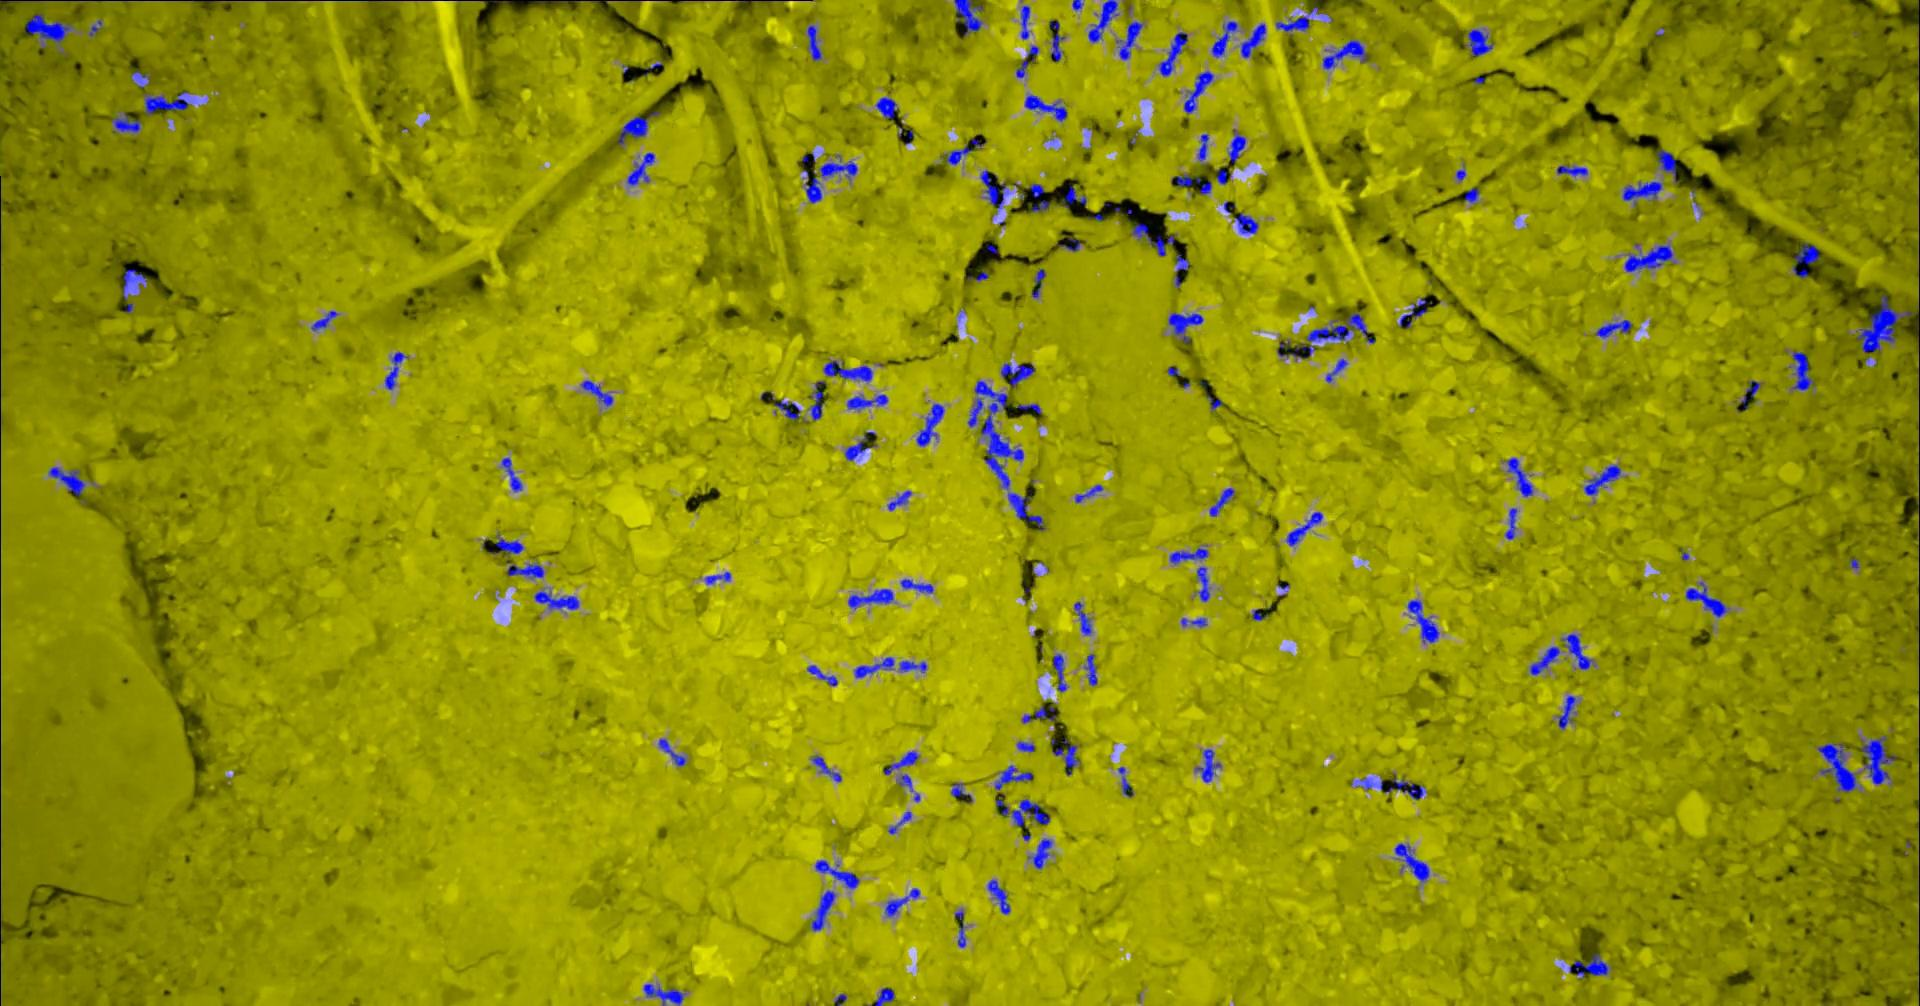ant: (1276, 312, 1374, 359), (1817, 742, 1857, 791), (996, 793, 1049, 826), (1862, 735, 1895, 782), (1685, 580, 1726, 617), (1007, 492, 1045, 530), (1131, 224, 1175, 255), (1407, 600, 1439, 643), (25, 13, 71, 42), (1158, 30, 1187, 76), (1322, 39, 1368, 69), (1394, 843, 1429, 882), (814, 859, 858, 888), (1624, 244, 1672, 271), (1087, 0, 1117, 42), (1275, 6, 1318, 36), (1183, 71, 1213, 113), (1286, 511, 1322, 545), (916, 403, 943, 446), (1583, 464, 1620, 495), (1561, 633, 1591, 669), (1023, 94, 1065, 121), (823, 359, 872, 381), (943, 138, 985, 164), (143, 91, 189, 114), (952, 0, 982, 36), (48, 466, 84, 495), (1168, 312, 1203, 342), (1788, 351, 1813, 390), (1384, 774, 1423, 799), (1051, 738, 1079, 774), (884, 888, 919, 916), (1506, 457, 1531, 495), (994, 763, 1032, 789), (1570, 953, 1608, 978), (1622, 180, 1661, 205), (811, 890, 836, 930), (1211, 20, 1237, 57), (1116, 22, 1142, 58), (847, 588, 893, 608), (1399, 297, 1431, 326), (626, 152, 654, 185), (980, 170, 1004, 208), (383, 351, 408, 389), (643, 983, 684, 1005), (844, 431, 875, 460), (1239, 23, 1265, 57), (617, 116, 648, 144), (1529, 647, 1559, 674), (818, 158, 857, 179), (580, 380, 612, 406), (1195, 749, 1220, 782), (1171, 174, 1211, 194), (535, 589, 578, 608), (855, 655, 893, 677), (488, 533, 523, 556), (883, 751, 918, 774), (987, 879, 1010, 915), (999, 363, 1034, 386), (811, 754, 841, 781), (1170, 544, 1208, 564), (1015, 44, 1037, 77), (1209, 486, 1234, 516), (122, 268, 146, 298), (658, 738, 684, 765), (1027, 838, 1051, 868), (502, 457, 522, 492), (1467, 29, 1492, 56), (1656, 149, 1676, 182), (808, 380, 824, 420), (1048, 22, 1064, 61), (846, 394, 888, 409), (1595, 319, 1630, 337), (1556, 695, 1575, 728), (1073, 601, 1091, 635), (1021, 705, 1055, 723), (806, 666, 837, 685), (310, 310, 338, 330), (1740, 380, 1760, 408), (507, 563, 543, 578), (1324, 358, 1347, 382), (888, 810, 910, 835), (1793, 243, 1818, 264), (1228, 130, 1244, 163), (110, 113, 138, 132), (1051, 653, 1065, 691), (1062, 185, 1086, 207), (773, 400, 800, 419), (1074, 484, 1102, 502), (875, 97, 898, 118), (808, 25, 822, 60), (1236, 212, 1258, 232), (888, 490, 910, 511), (1117, 766, 1133, 796), (1175, 253, 1189, 286), (900, 578, 933, 592), (869, 987, 894, 1005), (805, 175, 822, 202), (1196, 567, 1209, 601), (954, 909, 965, 948), (950, 782, 971, 801), (1031, 268, 1045, 297), (1503, 507, 1516, 539), (1084, 653, 1097, 685), (1556, 165, 1587, 177), (703, 572, 730, 584), (1197, 133, 1208, 165), (1057, 238, 1079, 251), (1020, 5, 1029, 39), (899, 661, 926, 672), (1016, 403, 1041, 413), (1215, 168, 1230, 184), (1463, 185, 1478, 202), (1205, 394, 1222, 409), (1180, 617, 1206, 626), (899, 774, 912, 791), (1029, 183, 1044, 197), (1031, 199, 1049, 211), (1357, 777, 1374, 789), (968, 271, 988, 279), (1016, 741, 1034, 751), (1792, 265, 1807, 277)
